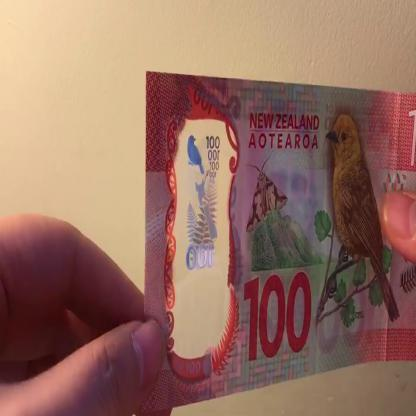100B: (185, 126, 225, 318)
